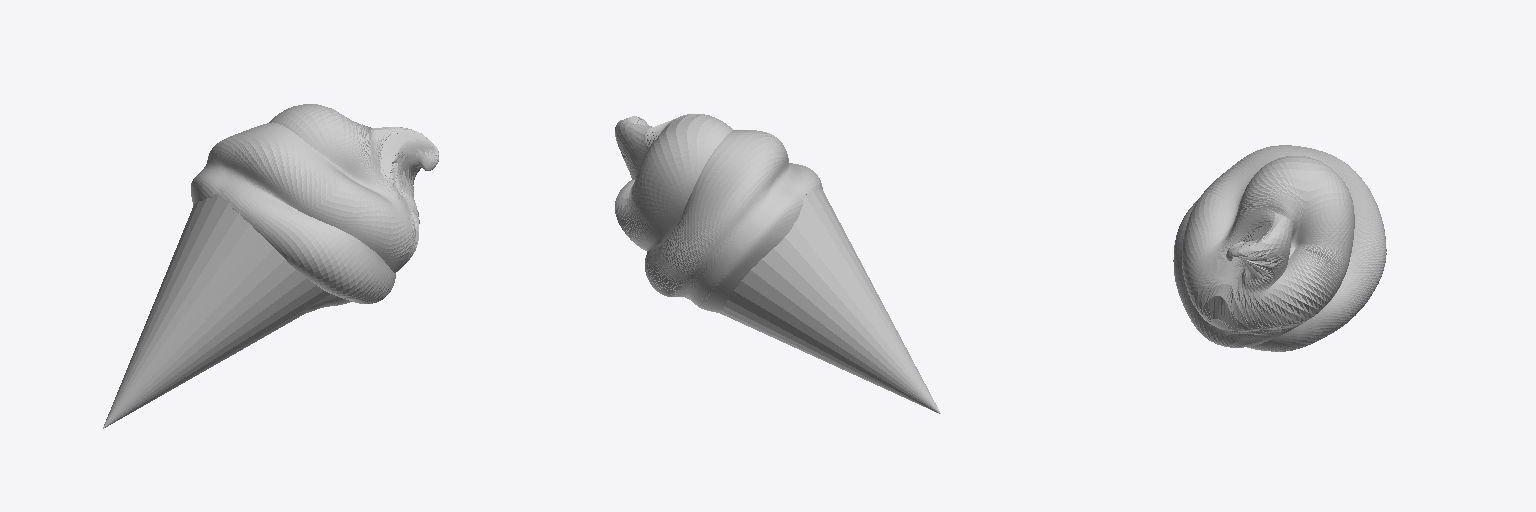
File: icecream.obj
The picture shows the model from 3 angles: view 1: azimuth 30°, elevation 25°; view 2: azimuth 150°, elevation 25°; view 3: azimuth 270°, elevation 25°; orthographic projection.
Visible parts, largest first — view 1: Quad_Sphere, Cone; view 2: Quad_Sphere, Cone; view 3: Quad_Sphere.
Boxes of the visible parts, box(x1,y1,x2,y2) form: Quad_Sphere: box(191, 104, 438, 313); Cone: box(103, 194, 334, 428); Quad_Sphere: box(615, 114, 822, 312); Cone: box(685, 188, 940, 413); Quad_Sphere: box(1173, 145, 1386, 351).
Bounding box in the file's own units: 6.41 × 4.73 × 3.62.